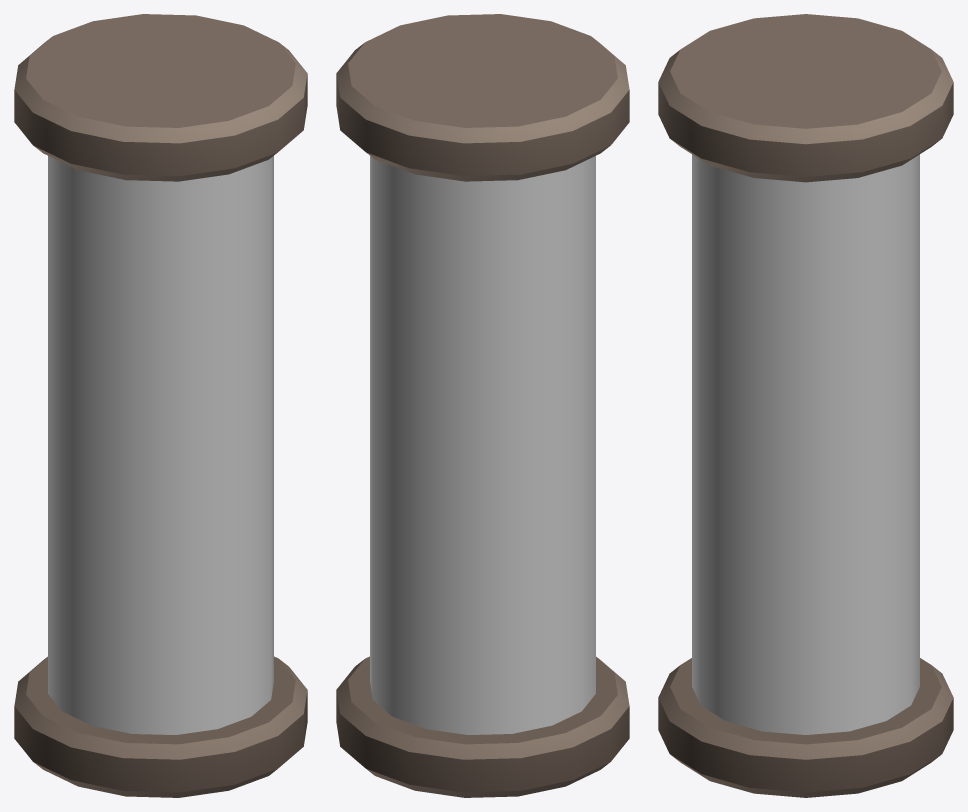
The model's file is KFB_BGB_hourglass_empty.r1.glb.
The picture shows the model from 3 angles, left to right: view 1: azimuth 30°, elevation 25°; view 2: azimuth 150°, elevation 25°; view 3: azimuth 270°, elevation 25°; orthographic projection.
Parts seen in each view (by area): view 1: KFB_BGB_hourglass_empty; view 2: KFB_BGB_hourglass_empty; view 3: KFB_BGB_hourglass_empty.
Part boxes in pixels (left/top/right/bottom): KFB_BGB_hourglass_empty: left=14, top=14, right=307, bottom=797; KFB_BGB_hourglass_empty: left=336, top=14, right=629, bottom=797; KFB_BGB_hourglass_empty: left=658, top=14, right=953, bottom=797.
Bounding box in the file's own units: 2.6 × 6.49 × 2.6.
2 materials, 1 textured.
